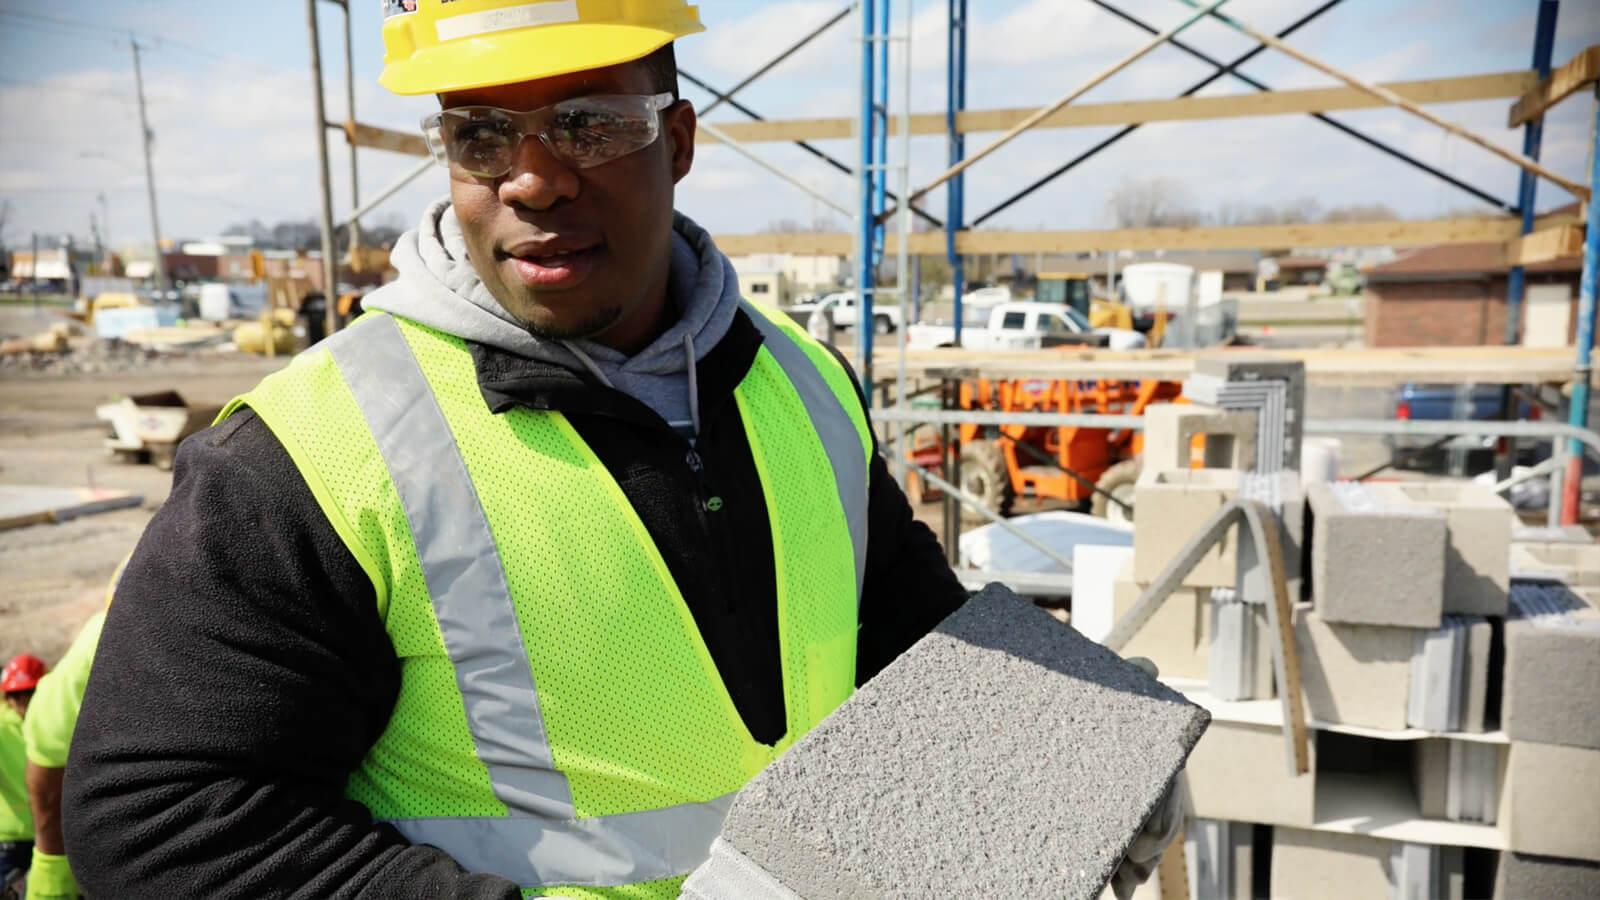helmet: (358, 1, 721, 90)
